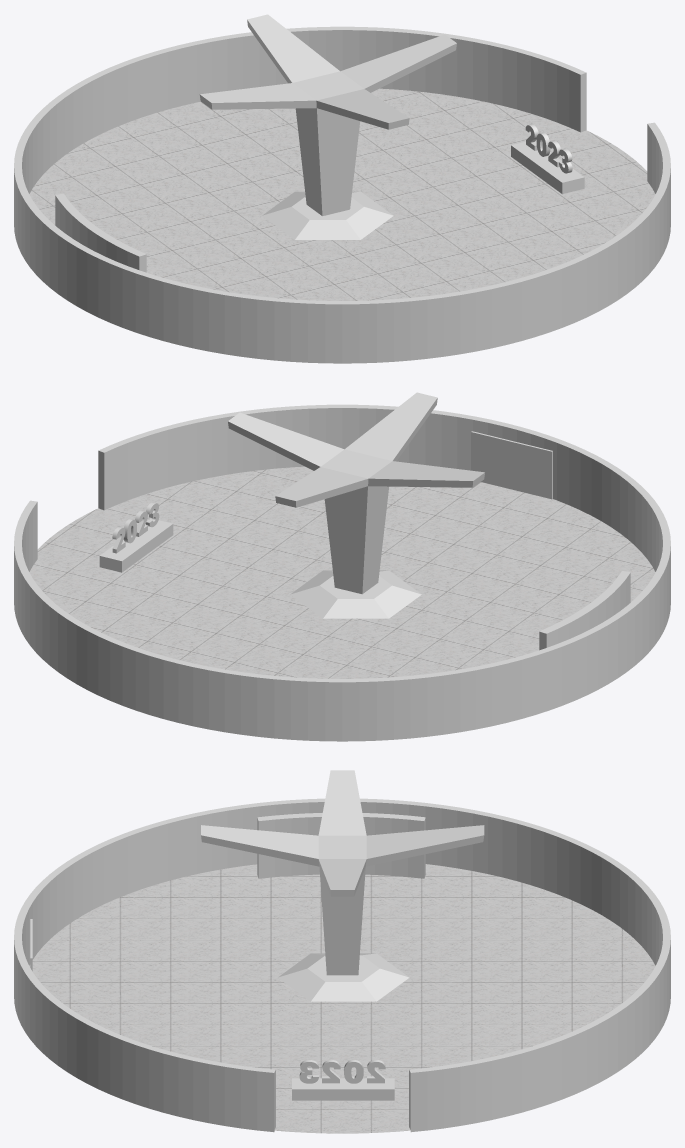
File: exhibition_update4.glb
3 views of the same model, one above another, from view 1: azimuth 30°, elevation 25°; view 2: azimuth 150°, elevation 25°; view 3: azimuth 270°, elevation 25° (orthographic).
Parts seen in each view (by area): view 1: Ground, MainFrame, Pillar, Table1, Screen1, Table0, Text2023; view 2: Ground, MainFrame, Pillar, Table1, Screen0, Screen1, Table0, Text2023; view 3: Ground, MainFrame, Pillar, Screen1, Table1, Table0, Text2023.
Boxes of the visible parts, x1=… form: Ground: x1=29, y1=88, x2=655, y2=300; MainFrame: x1=14, y1=26, x2=670, y2=363; Pillar: x1=199, y1=14, x2=456, y2=216; Table1: x1=262, y1=191, x2=393, y2=239; Screen1: x1=55, y1=193, x2=146, y2=272; Table0: x1=511, y1=141, x2=584, y2=194; Text2023: x1=525, y1=124, x2=572, y2=173; Ground: x1=29, y1=466, x2=655, y2=678; MainFrame: x1=14, y1=404, x2=670, y2=741; Pillar: x1=228, y1=392, x2=484, y2=594; Table1: x1=290, y1=570, x2=421, y2=618; Screen0: x1=471, y1=431, x2=552, y2=499; Screen1: x1=539, y1=570, x2=630, y2=650; Table0: x1=99, y1=518, x2=173, y2=572; Text2023: x1=112, y1=502, x2=159, y2=553; Ground: x1=29, y1=864, x2=655, y2=1133; MainFrame: x1=14, y1=798, x2=670, y2=1132; Pillar: x1=201, y1=770, x2=484, y2=975; Screen1: x1=257, y1=813, x2=425, y2=878; Table1: x1=278, y1=953, x2=409, y2=1001; Table0: x1=292, y1=1078, x2=394, y2=1100; Text2023: x1=299, y1=1060, x2=385, y2=1083.
Size of the model in its own units: 30 by 8.05 by 30.
Materials: 2 (1 with a texture image).
